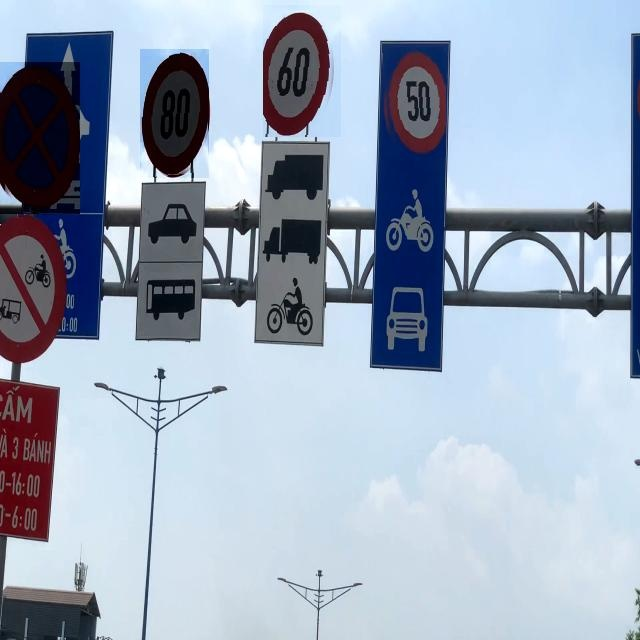bien_chi_dan: (0, 62, 80, 214), (263, 5, 341, 137), (140, 49, 209, 178), (381, 47, 446, 159)
